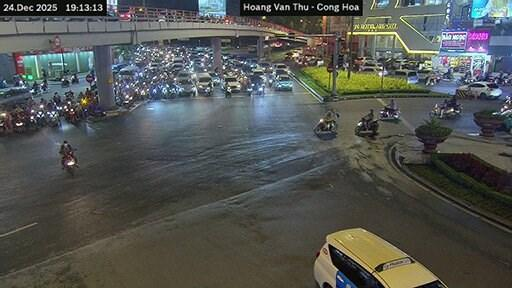motorbike: (313, 112, 339, 134), (428, 103, 460, 117), (355, 118, 377, 133), (64, 152, 77, 175), (12, 112, 25, 133), (45, 109, 59, 126), (380, 108, 400, 118), (35, 104, 44, 126), (250, 82, 263, 94), (122, 94, 133, 108), (455, 77, 473, 85), (0, 112, 6, 134), (442, 72, 453, 80), (60, 76, 69, 85), (224, 86, 230, 97), (70, 73, 77, 82), (0, 80, 6, 88)
